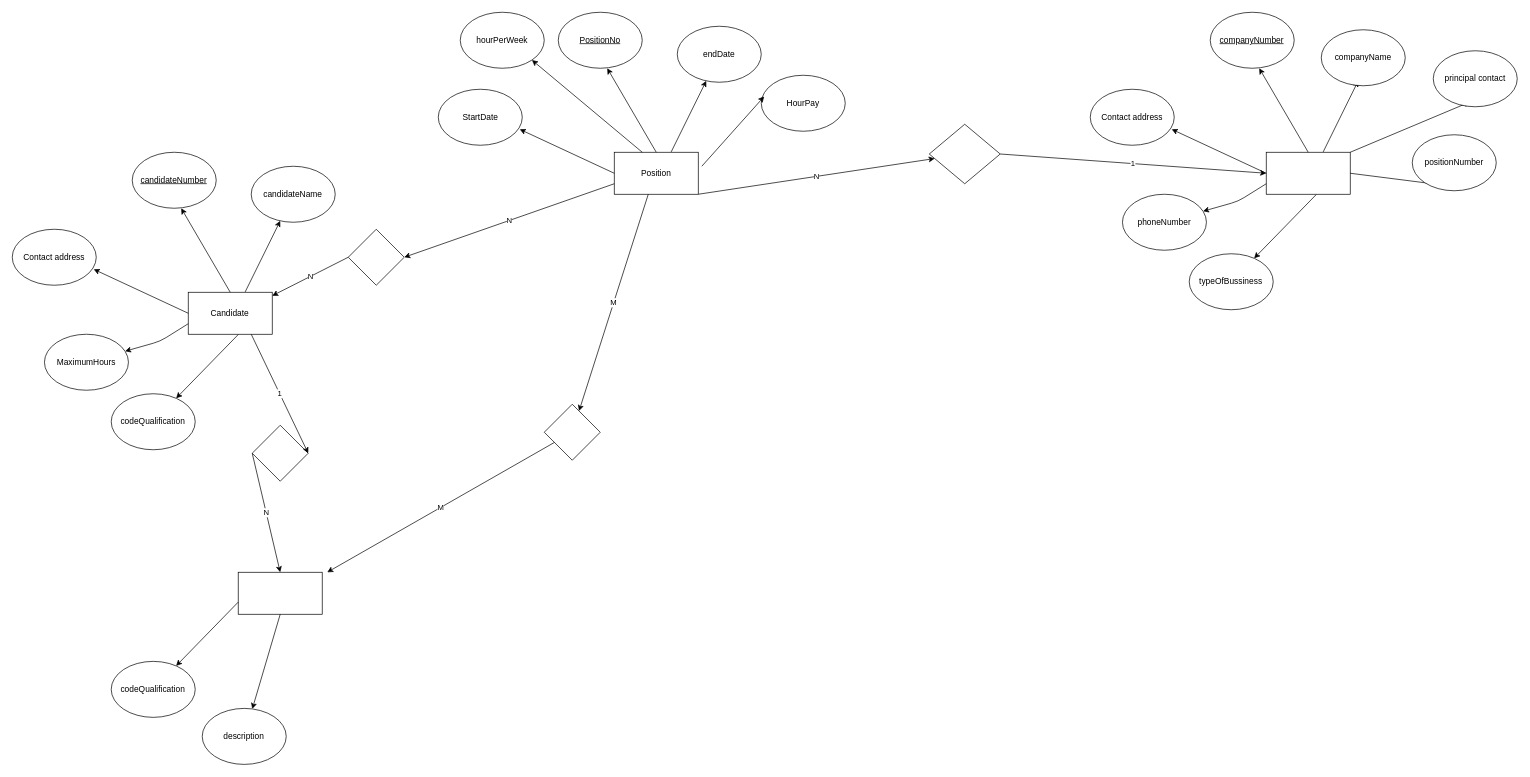
The diagram is 1530 pixels wide and 777 high, and some of its shapes have lost their labels. The centre of each missing label's shape, as x and y in pixels:
"Belong to" goes at (x=280, y=453).
"Company" goes at (x=1308, y=173).
"Qualification" goes at (x=280, y=593).
"request" goes at (x=964, y=154).
"require" goes at (x=572, y=432).
"work" goes at (x=376, y=257).
